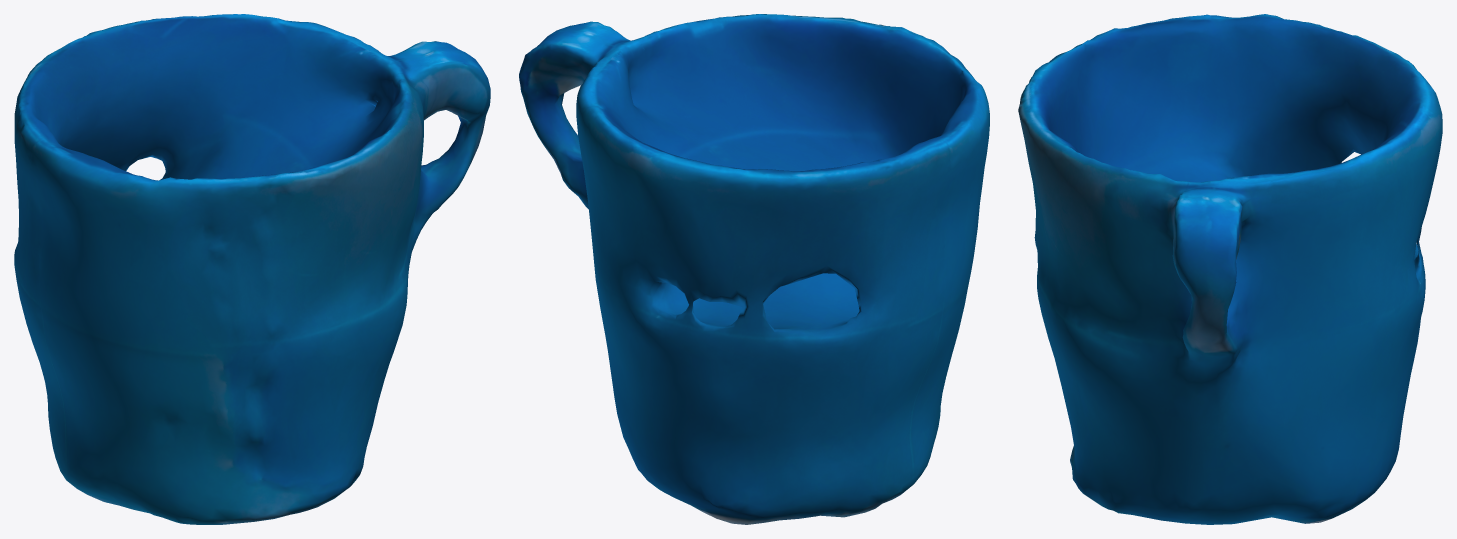
The model's file is blue_cup.obj.
3 views of the same model, side by side, from view 1: azimuth 30°, elevation 25°; view 2: azimuth 150°, elevation 25°; view 3: azimuth 270°, elevation 25° (orthographic). The views are drawn at different scales.
Visible parts, largest first — view 1: mesh_0; view 2: mesh_0; view 3: mesh_0.
Boxes of the visible parts, x1,y1,x2,y2 form: mesh_0: (14, 14, 490, 524); mesh_0: (519, 14, 989, 524); mesh_0: (1018, 14, 1442, 524).
Size of the model in its own units: 0.103 by 0.0846 by 0.0833.
1 material, 1 textured.
